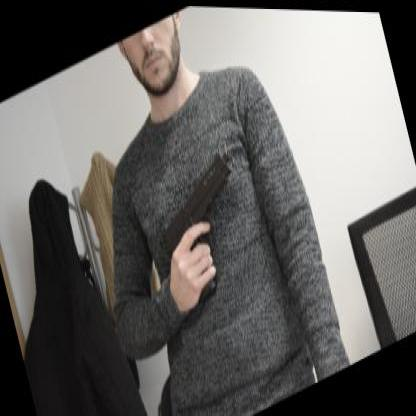pistol: (149, 139, 258, 312)
